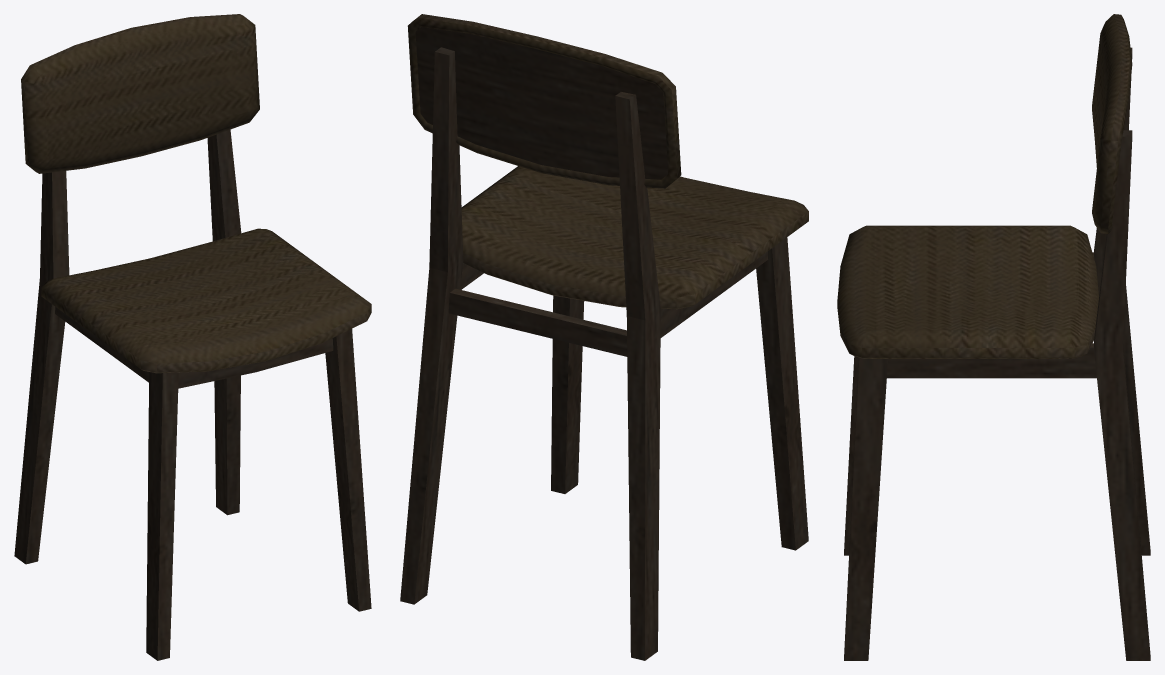
The model's file is chair_mp_4_2.obj.
The picture shows the model from 3 angles, left to right: view 1: azimuth 30°, elevation 25°; view 2: azimuth 150°, elevation 25°; view 3: azimuth 270°, elevation 25°; orthographic projection. The views are drawn at different scales.
Visible parts, largest first — view 1: chair_mp_4_2; view 2: chair_mp_4_2; view 3: chair_mp_4_2.
Part boxes in pixels (box(x1,y1,x2,y2)): chair_mp_4_2: box(14, 14, 371, 660); chair_mp_4_2: box(400, 14, 808, 660); chair_mp_4_2: box(837, 14, 1150, 660).
Size of the model in its own units: 0.4763 by 1.01 by 0.5226.
